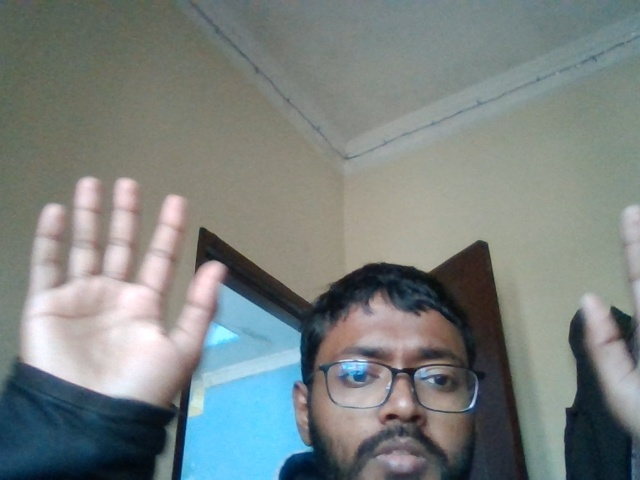Hello: (16, 139, 247, 413)
